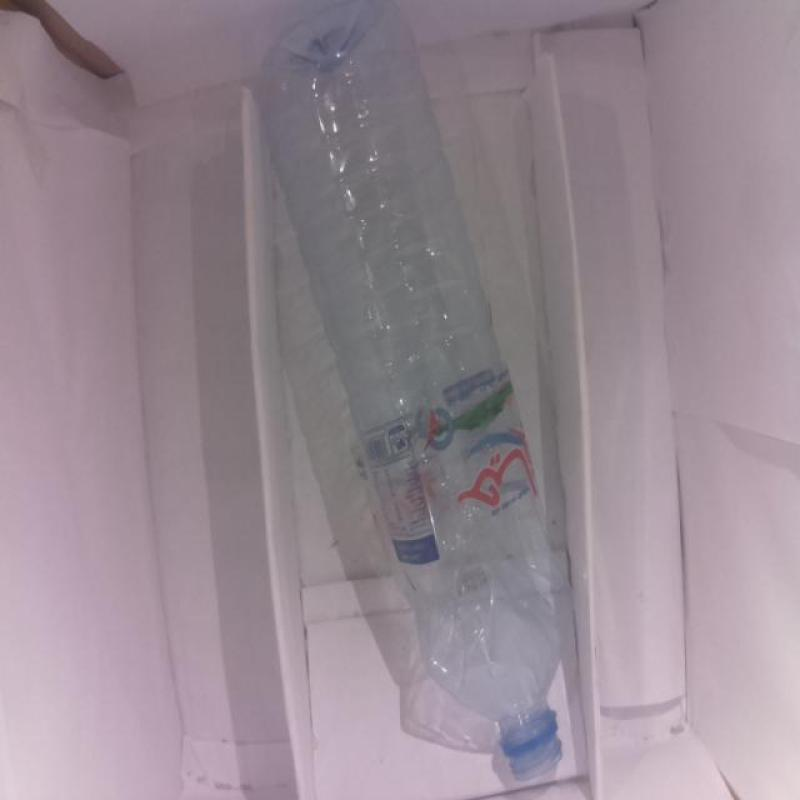botella: (247, 4, 575, 784)
